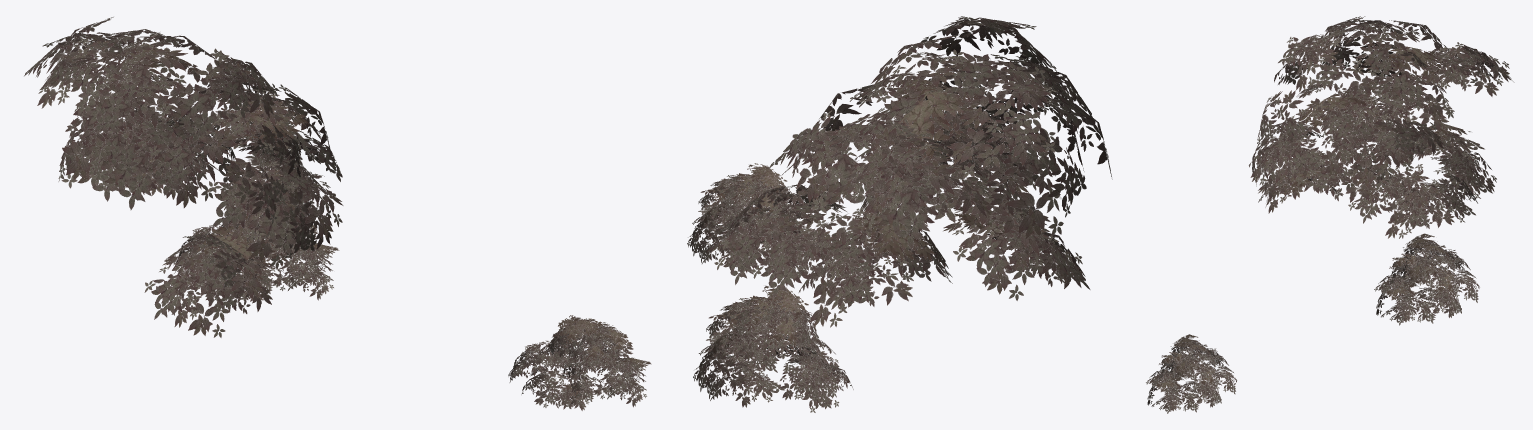
File: Area12_16.FBX
3 views of the same model, side by side, from view 1: azimuth 30°, elevation 25°; view 2: azimuth 150°, elevation 25°; view 3: azimuth 270°, elevation 25° (orthographic). The views are drawn at different scales.
Visible parts, largest first — view 1: Area12_16; view 2: Area12_16; view 3: Area12_16.
Boxes of the visible parts, <box> form: Area12_16: <box>24,17,651,410</box>; Area12_16: <box>687,16,1112,412</box>; Area12_16: <box>1146,16,1514,413</box>.
Size of the model in its own units: 1618 by 1128 by 1443.
